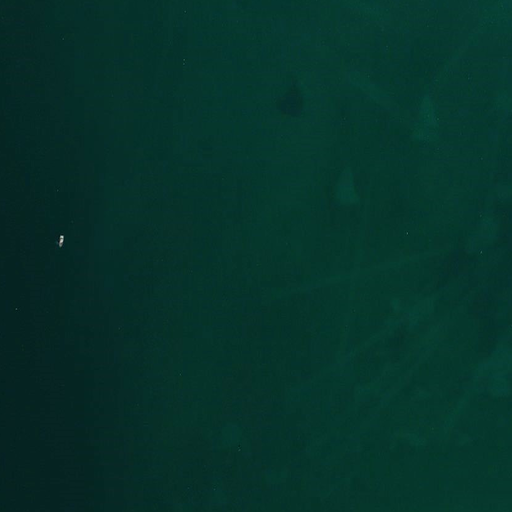ship: (56, 232, 65, 249)
